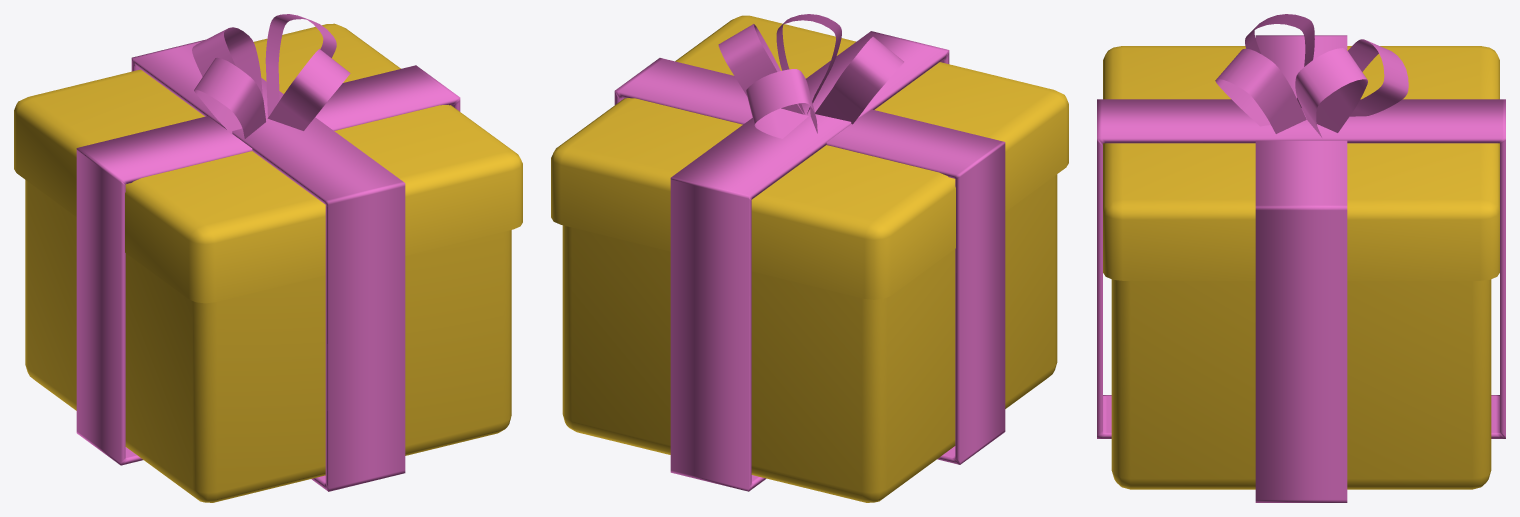
File: giftbox.fbx
3 renders of one model, left to right at view 1: azimuth 30°, elevation 25°; view 2: azimuth 150°, elevation 25°; view 3: azimuth 270°, elevation 25°, orthographic. The views are drawn at different scales.
Visible parts, largest first — view 1: Cube.006; view 2: Cube.006; view 3: Cube.006.
Part boxes in pixels (bbox=[...]): Cube.006: bbox=[14, 14, 522, 502]; Cube.006: bbox=[551, 14, 1068, 502]; Cube.006: bbox=[1097, 14, 1505, 502].
Size of the model in its own units: 214 by 226 by 215.
